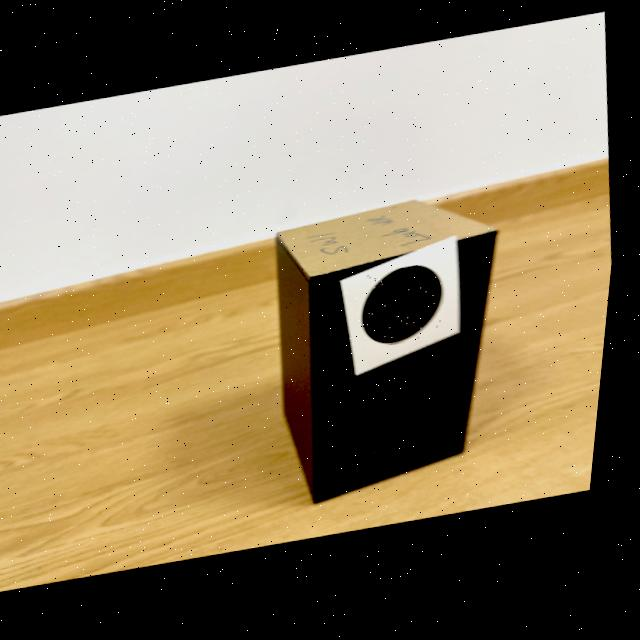CIRCLE: (369, 270, 448, 349)
